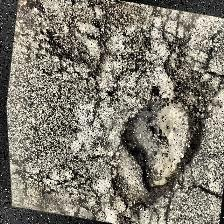pothole: (103, 82, 209, 210)
